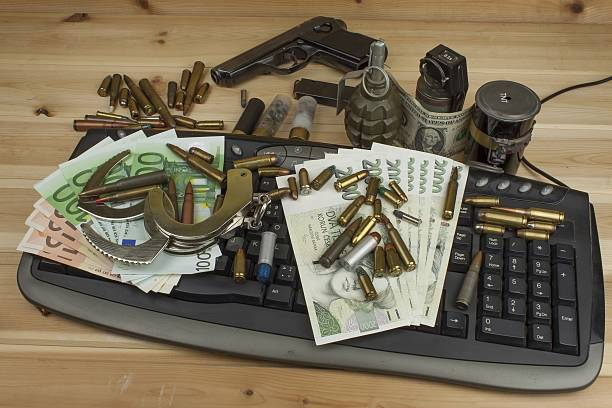e1: (331, 37, 401, 143)
